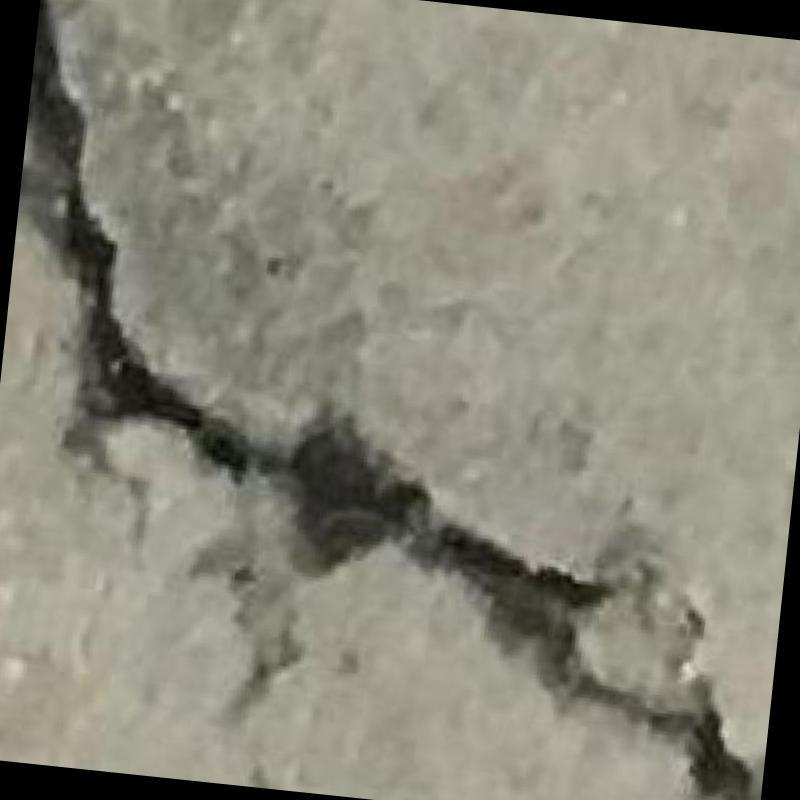crack: (20, 0, 759, 800)
